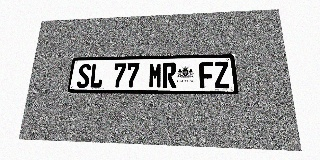7: (125, 63, 140, 88), (112, 63, 126, 88)
F: (199, 62, 215, 88)
L: (89, 64, 104, 88)
M: (148, 63, 162, 88)
R: (162, 62, 176, 88)
S: (76, 64, 91, 88)
Z: (214, 61, 230, 88)
